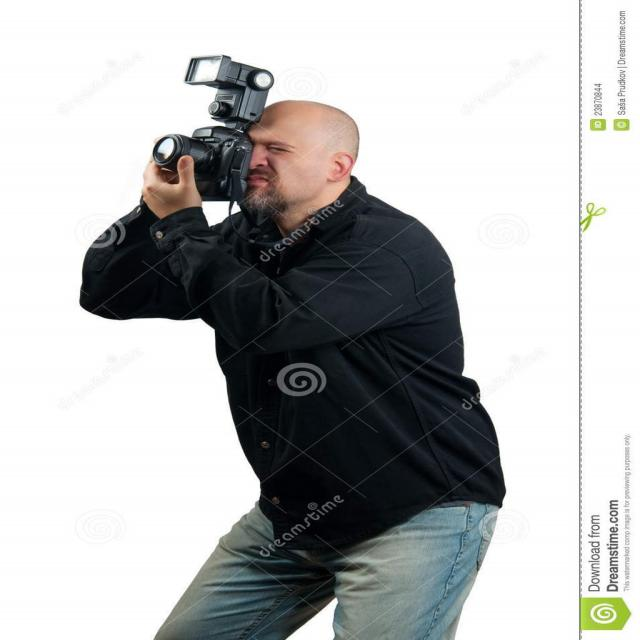nomask: (231, 116, 328, 204)
